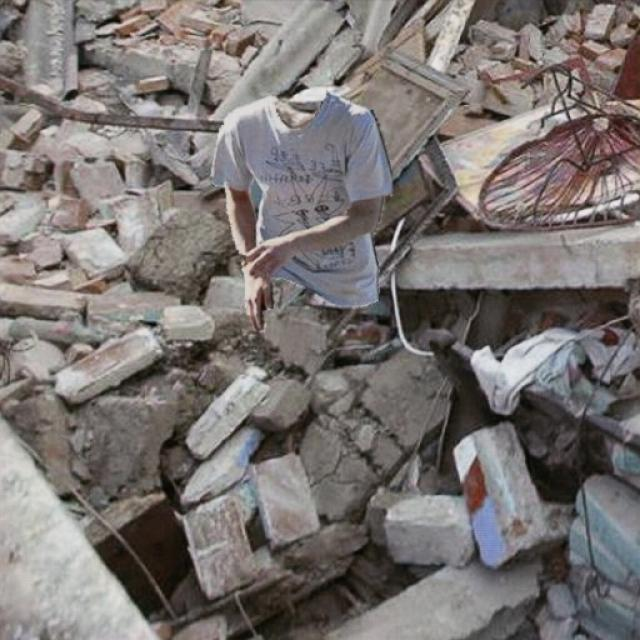Person in Rubble: (210, 90, 391, 332)
